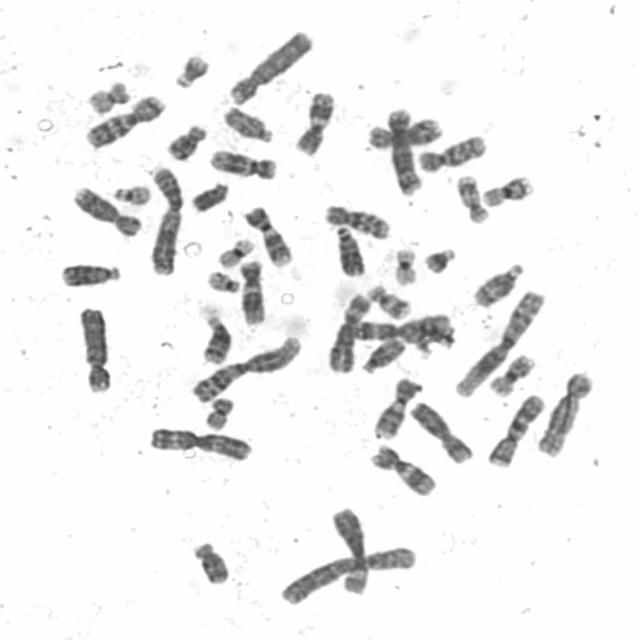A1: (449, 284, 549, 399), (186, 330, 306, 404)
A2: (274, 540, 419, 606), (142, 158, 185, 276)
A3: (142, 421, 255, 463), (347, 308, 453, 343)
B4: (223, 24, 316, 106), (72, 300, 113, 394)
B5: (532, 364, 596, 458), (382, 101, 425, 196)
C10: (412, 128, 489, 174), (319, 198, 393, 241)
C11: (365, 439, 440, 498), (289, 85, 338, 156)
C12: (203, 142, 279, 181), (235, 254, 268, 326)
C6: (325, 500, 372, 597), (322, 287, 374, 374)
C7: (482, 387, 548, 469), (80, 88, 166, 150)
C8: (67, 180, 145, 237), (362, 112, 445, 150)
C9: (238, 200, 295, 268), (368, 372, 424, 440)
D13: (55, 256, 124, 289), (328, 220, 367, 278)
D14: (468, 257, 526, 309), (193, 304, 234, 366)
D15: (218, 100, 276, 144), (356, 331, 408, 375)
E16: (483, 348, 538, 397), (477, 169, 536, 208)
E17: (451, 169, 492, 225), (362, 278, 414, 321)
E18: (186, 535, 233, 586), (161, 117, 210, 162)
F19: (211, 232, 256, 270), (388, 242, 421, 286)
F20: (81, 74, 132, 116), (200, 391, 237, 432)
G21: (168, 48, 212, 89), (419, 241, 459, 275)
G22: (107, 178, 153, 206), (202, 264, 242, 294)
X: (404, 395, 476, 465)
Y: (185, 175, 232, 214)
